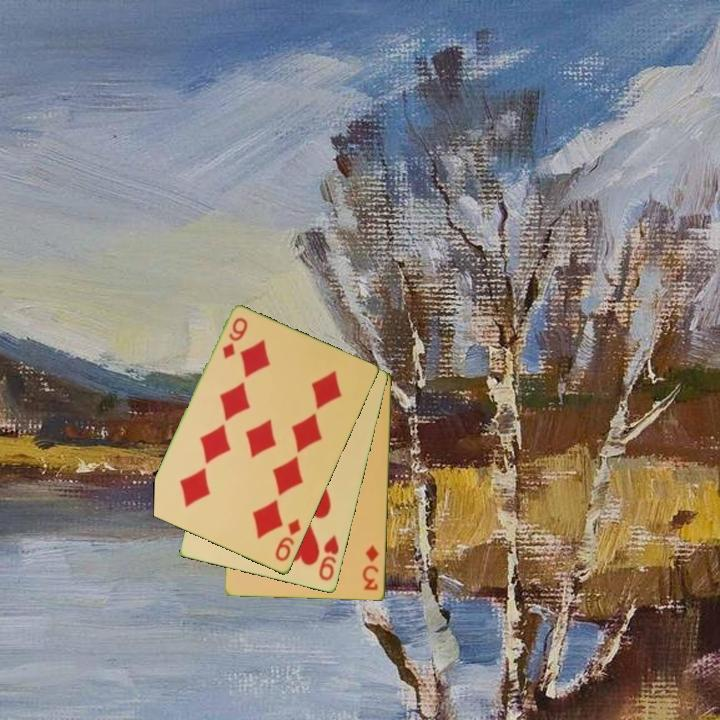3d: (360, 541, 382, 594)
9d: (271, 516, 304, 565), (219, 314, 251, 362)
9h: (315, 532, 342, 584)
